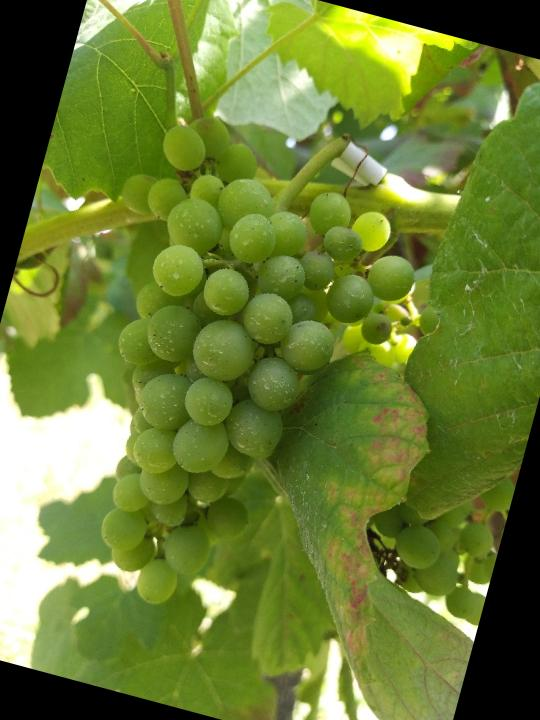grape: (19, 97, 450, 654)
